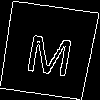M: (23, 25, 78, 77)
